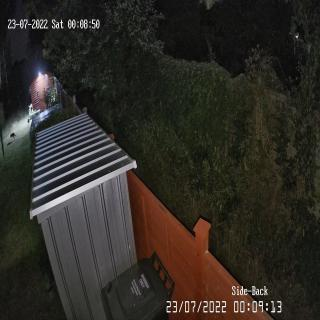dog: (9, 132, 17, 142)
